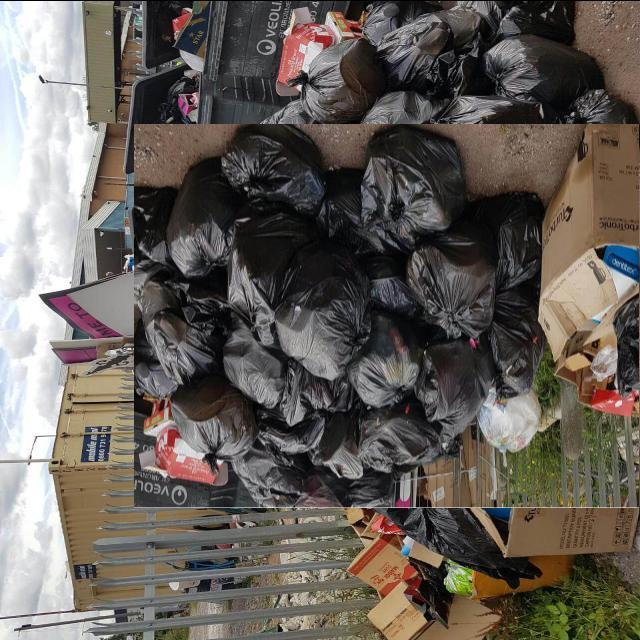Trashbag: (212, 226, 370, 376), (366, 127, 468, 241), (291, 32, 395, 134), (158, 161, 241, 283), (488, 23, 609, 106), (141, 275, 223, 393), (334, 316, 428, 414), (408, 243, 499, 342), (227, 127, 323, 218), (387, 10, 479, 103), (417, 339, 498, 442), (169, 368, 245, 460), (221, 435, 306, 513), (357, 406, 436, 484), (485, 304, 544, 394), (482, 190, 541, 278), (313, 415, 378, 491), (559, 87, 632, 143)
